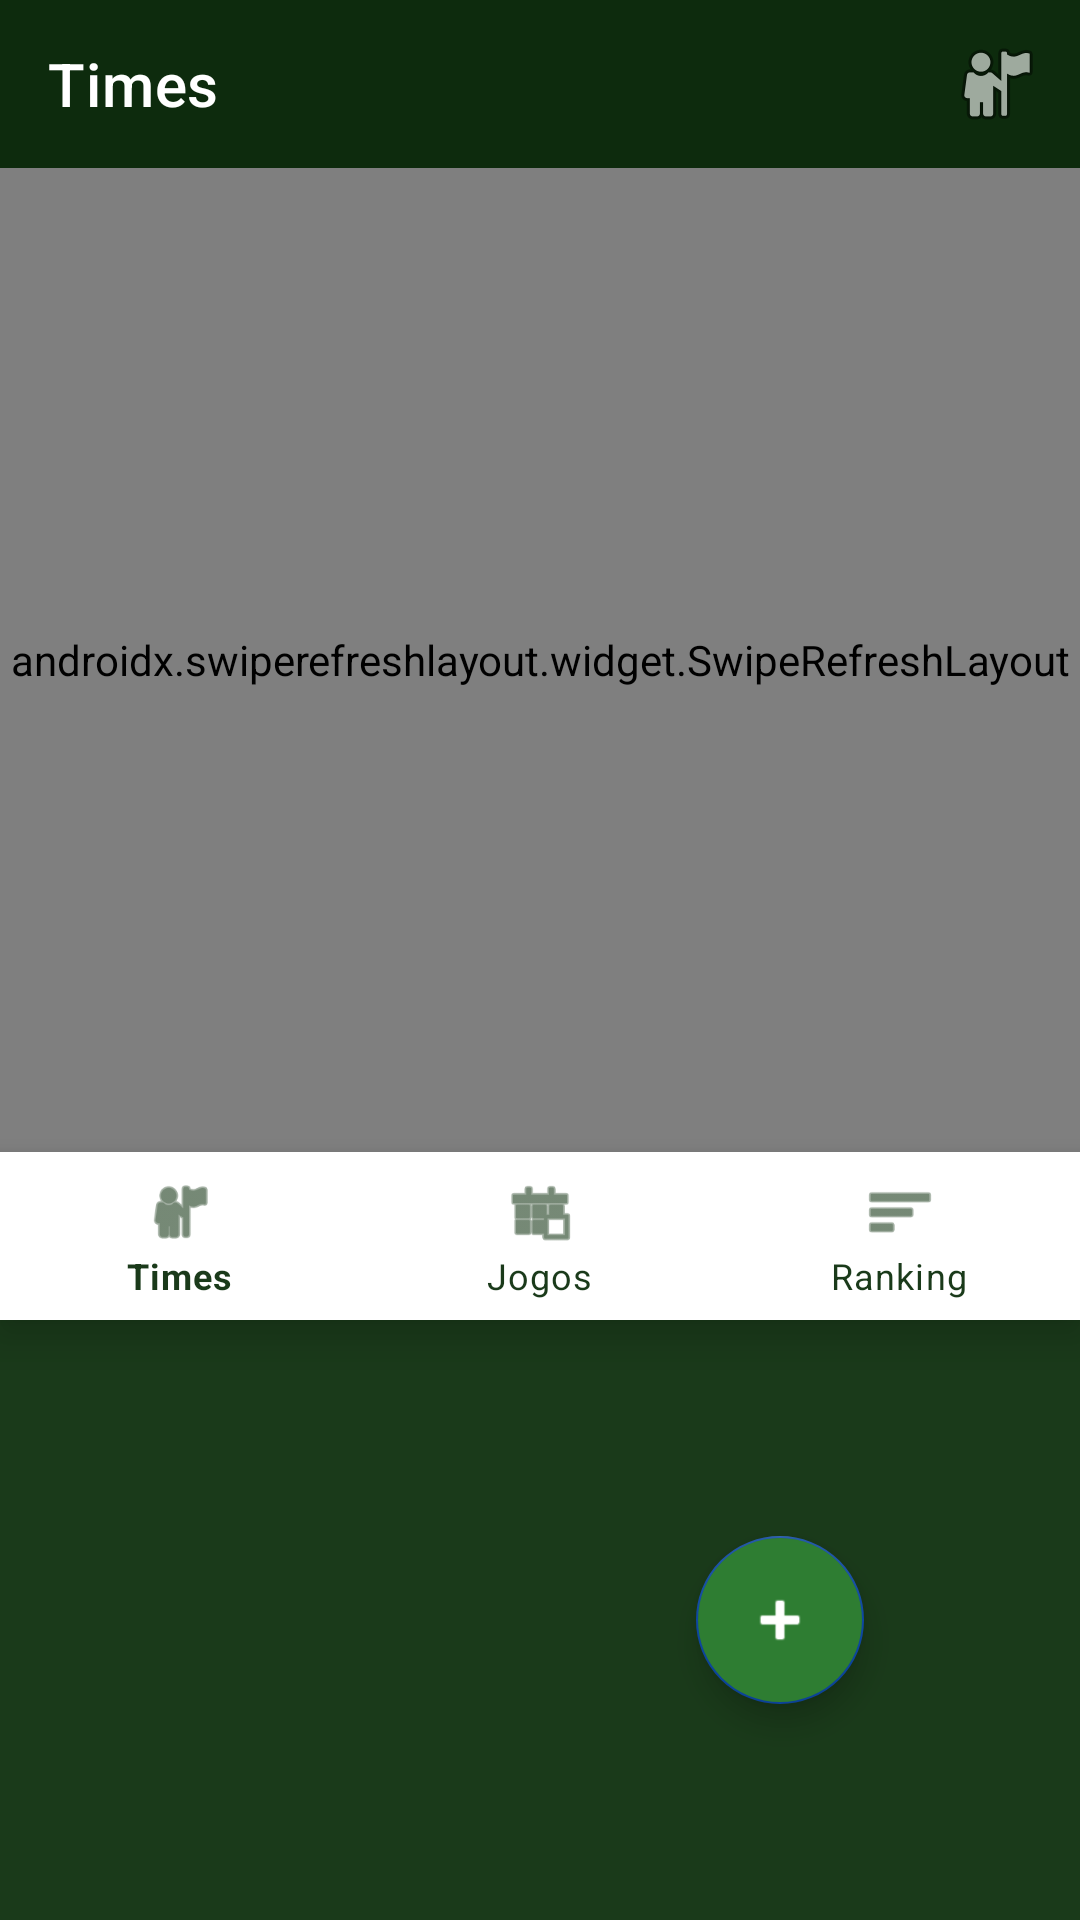

Named icons in this screenshot (1080 × 1920) and their bounding boxes, (x1, y1, x2, y2):
Adicionar Time: (696, 1536, 864, 1704)
